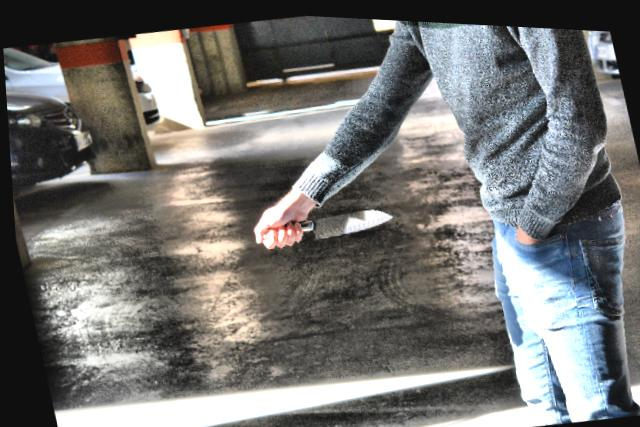knife: (251, 187, 399, 254)
